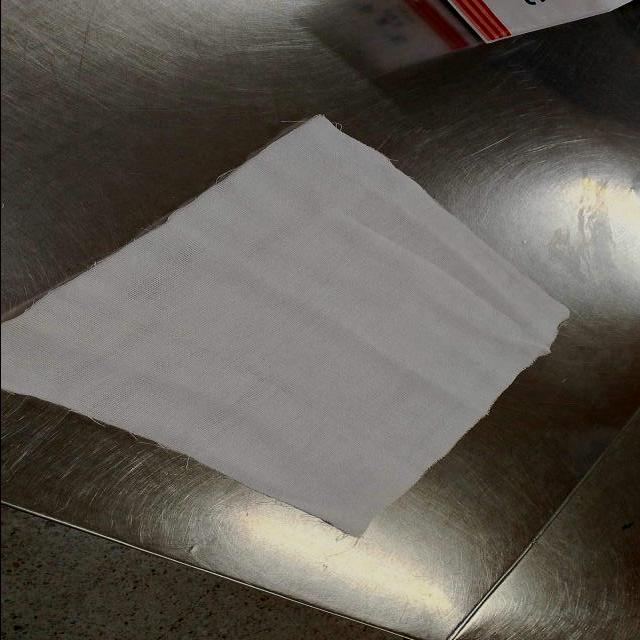Infectious: (2, 113, 571, 540)
Sharps: (442, 406, 639, 640)
